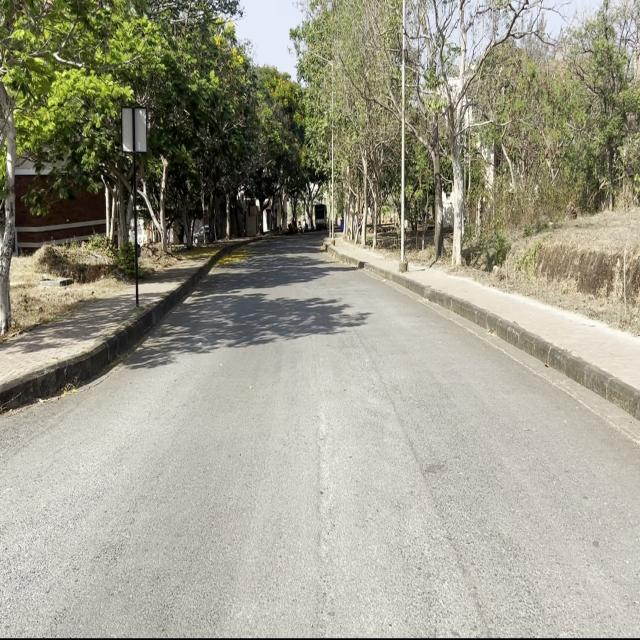Road: (4, 243, 636, 636)
